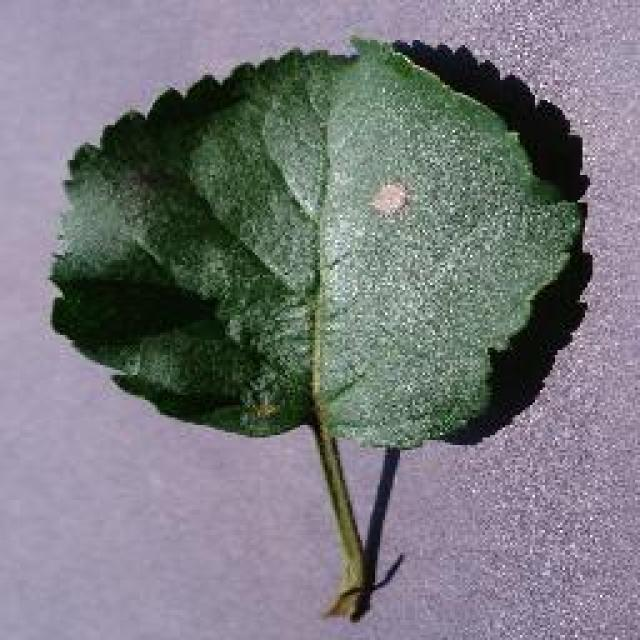Black_rot: (45, 32, 587, 620)
